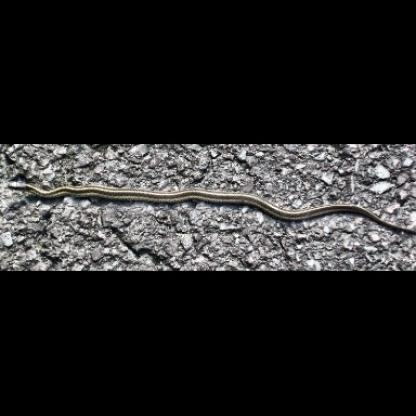Snake: (3, 173, 408, 239)
